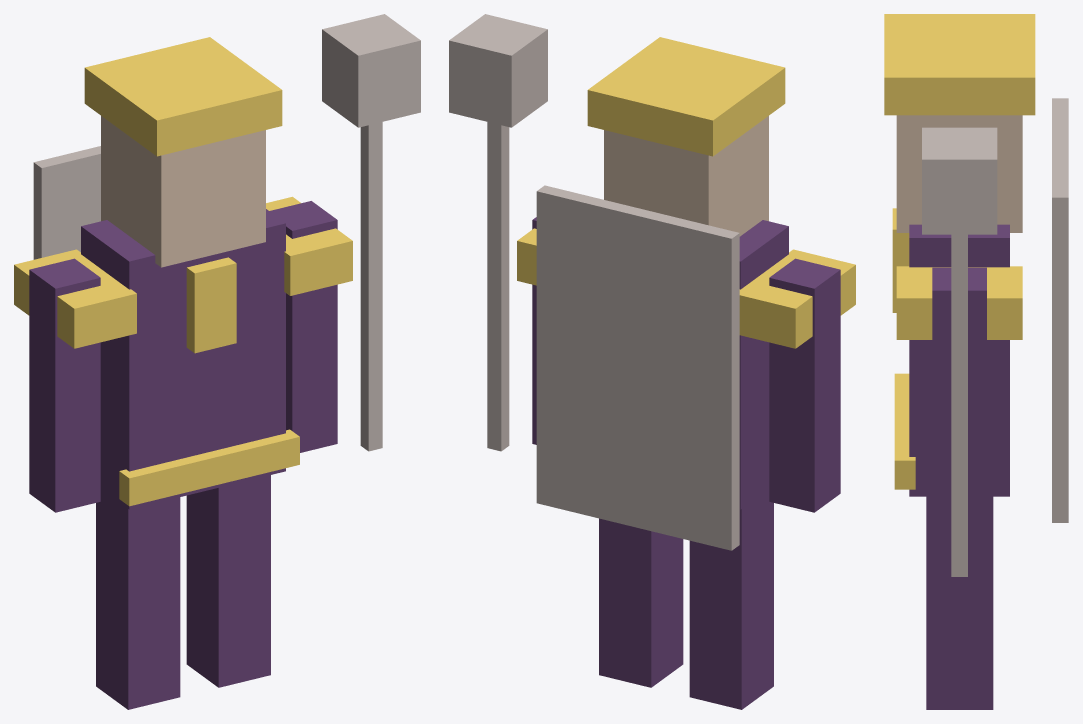
The model's file is 15_calder_cragwarden_broker_of_maintenance.glb.
3 views of the same model, side by side, from view 1: azimuth 30°, elevation 25°; view 2: azimuth 150°, elevation 25°; view 3: azimuth 270°, elevation 25° (orthographic). The views are drawn at different scales.
Visible parts, largest first — view 1: Calder Cragwarden, Broker of Maintenance; view 2: Calder Cragwarden, Broker of Maintenance; view 3: Calder Cragwarden, Broker of Maintenance.
Part boxes in pixels (bbox=[...]): Calder Cragwarden, Broker of Maintenance: bbox=[14, 14, 420, 709]; Calder Cragwarden, Broker of Maintenance: bbox=[449, 14, 855, 709]; Calder Cragwarden, Broker of Maintenance: bbox=[884, 14, 1068, 709].
Size of the model in its own units: 0.9988 by 1.59 by 0.4246.
